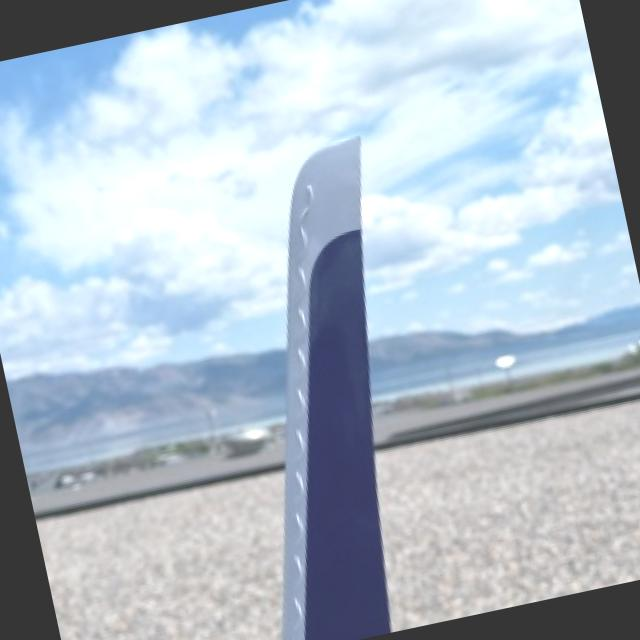healthy: (286, 139, 392, 640)
